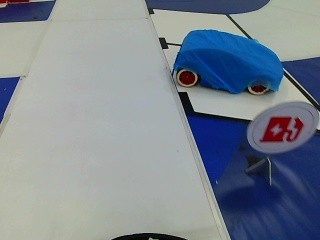battery: (254, 108, 306, 148)
car: (169, 29, 279, 97)
